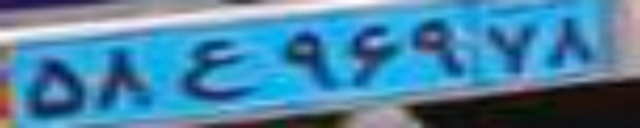5: (28, 57, 85, 117)
6: (347, 23, 395, 86)
7: (483, 23, 539, 73)
8: (97, 48, 152, 110), (548, 17, 599, 70)
9: (282, 30, 338, 91), (408, 19, 465, 78)
ain: (181, 38, 261, 102)
